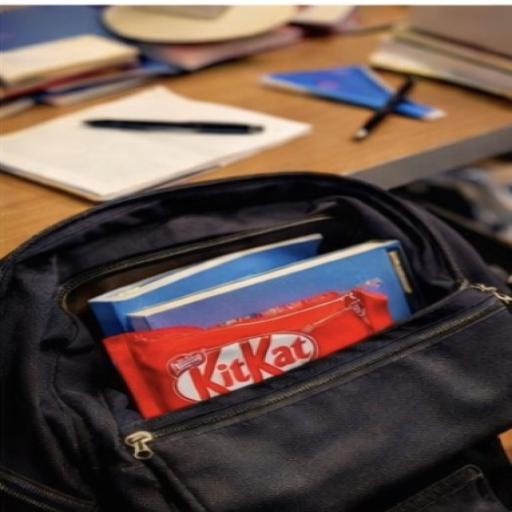kitkat: (86, 290, 489, 436)
